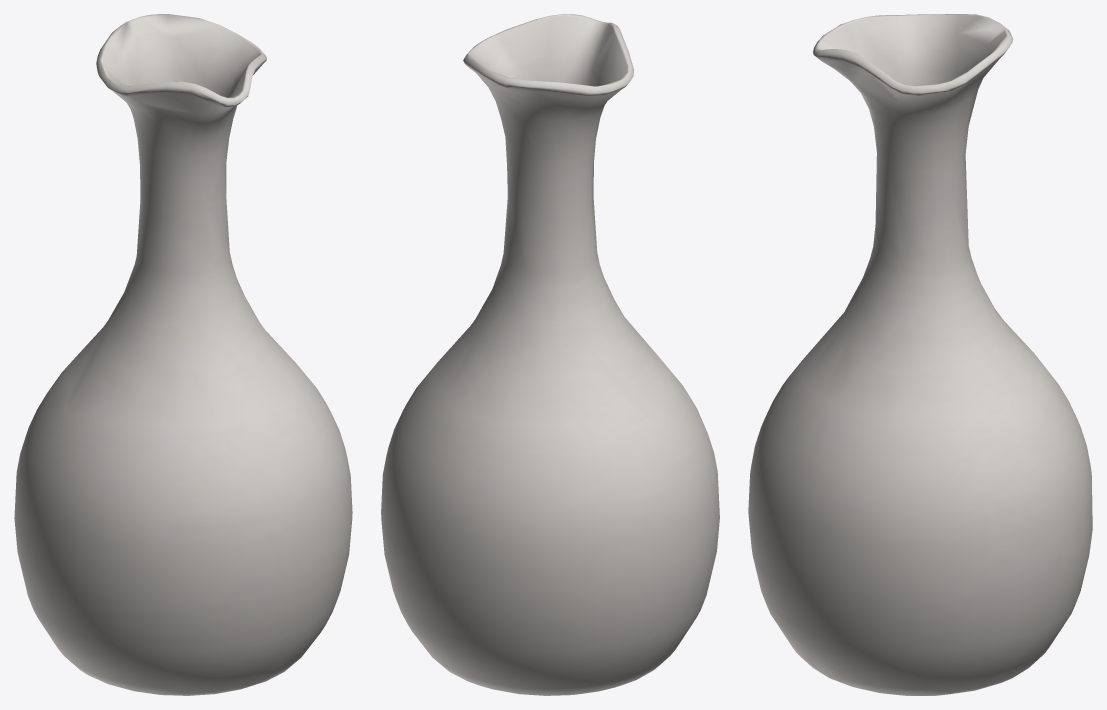
Rendered from vase-ceramic-white.glb.
3 renders of one model, left to right at view 1: azimuth 30°, elevation 25°; view 2: azimuth 150°, elevation 25°; view 3: azimuth 270°, elevation 25°, orthographic. The views are drawn at different scales.
Visible parts, largest first — view 1: ceramic_vase_01; view 2: ceramic_vase_01; view 3: ceramic_vase_01.
Boxes of the visible parts, x1,y1,x2,y2 form: ceramic_vase_01: (14, 14, 352, 695); ceramic_vase_01: (381, 14, 719, 695); ceramic_vase_01: (748, 14, 1092, 695).
Size of the model in its own units: 0.2036 by 0.4003 by 0.2031.
Materials: 1 (1 with a texture image).
